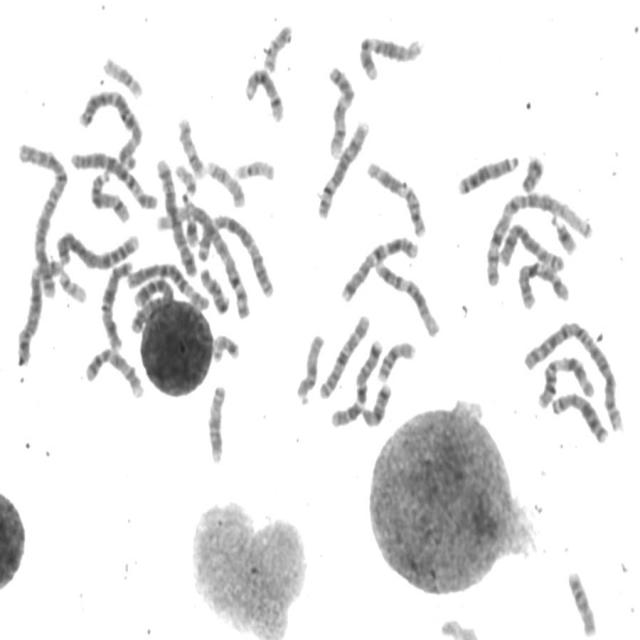A1: (154, 200, 254, 320), (483, 186, 594, 284)
A2: (522, 314, 626, 438), (13, 136, 67, 300)
A3: (194, 209, 276, 300), (73, 84, 143, 171)
B4: (51, 223, 141, 271), (128, 282, 176, 334)
B5: (151, 154, 199, 278), (13, 253, 61, 367)
C10: (316, 309, 372, 401), (516, 257, 571, 310)
C11: (363, 155, 428, 239), (533, 350, 596, 410)
C12: (371, 254, 442, 339), (356, 29, 425, 82)
C6: (67, 145, 160, 212), (124, 256, 210, 312)
C7: (337, 231, 421, 304), (327, 333, 385, 428)
C8: (314, 115, 372, 220), (498, 219, 563, 273)
C9: (81, 343, 146, 400), (324, 59, 357, 161)
D13: (548, 387, 610, 445), (454, 148, 521, 196)
D14: (241, 63, 286, 123), (88, 166, 132, 224)
D15: (292, 330, 326, 406), (204, 379, 228, 467)
E16: (564, 567, 599, 637), (374, 337, 417, 383)
E17: (202, 154, 246, 209), (174, 112, 208, 180)
E18: (196, 262, 231, 314), (358, 378, 394, 428)
F19: (100, 51, 144, 99), (234, 154, 281, 187)
F20: (260, 19, 294, 73), (209, 328, 242, 364)
G21: (547, 212, 579, 256), (182, 206, 200, 249)
G22: (55, 264, 89, 304), (172, 159, 198, 198)
X: (97, 254, 135, 352)
Y: (518, 149, 546, 194)
